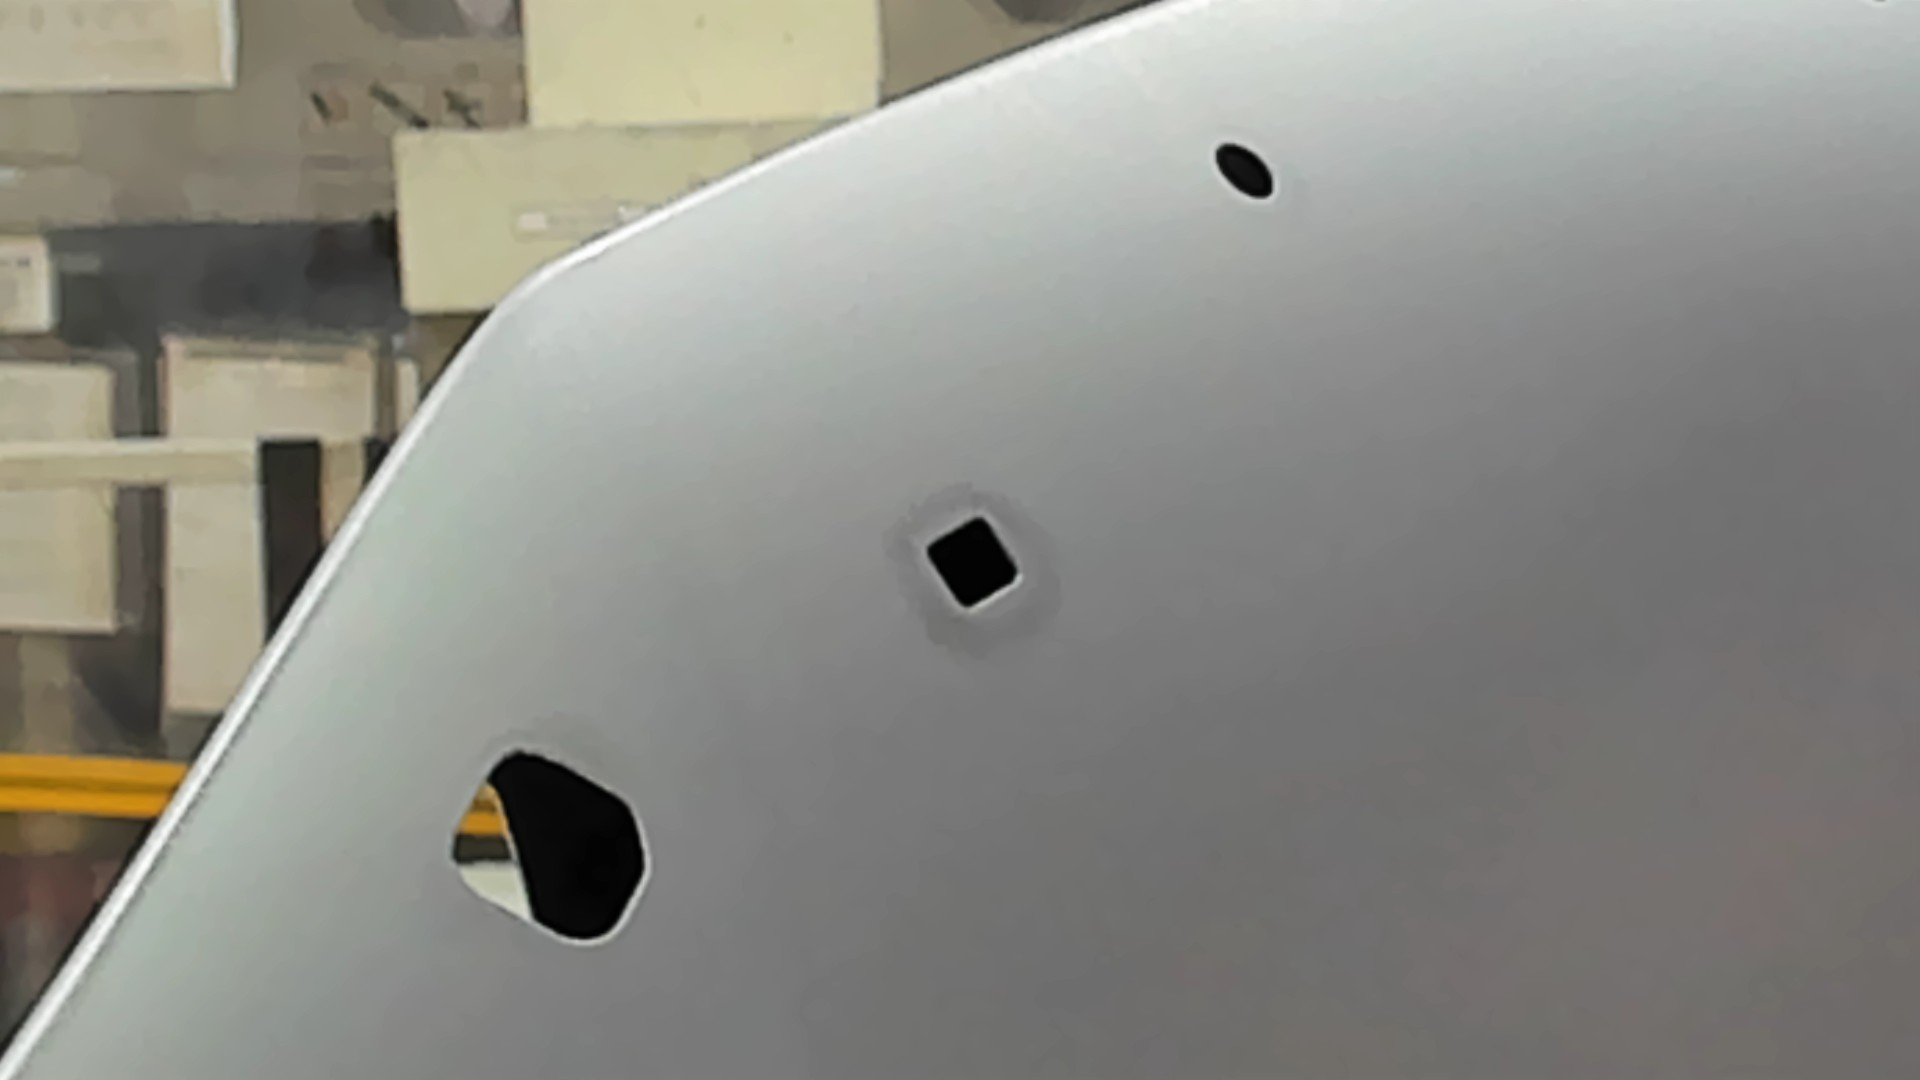chico: (1211, 137, 1279, 204)
grande: (448, 742, 651, 953)
mediano: (919, 510, 1030, 615)
